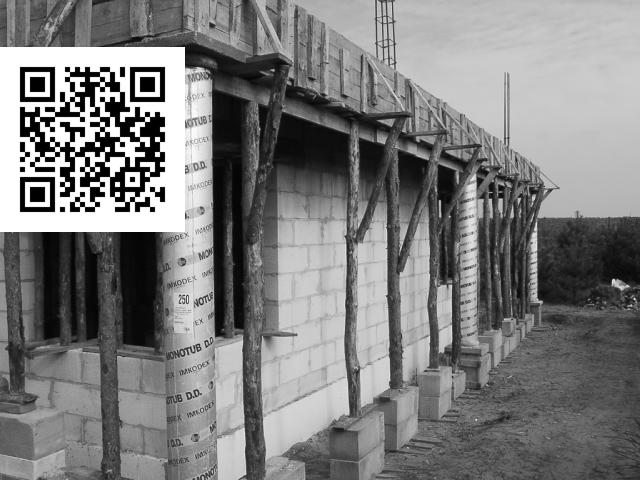qr_code: (1, 47, 184, 231)
